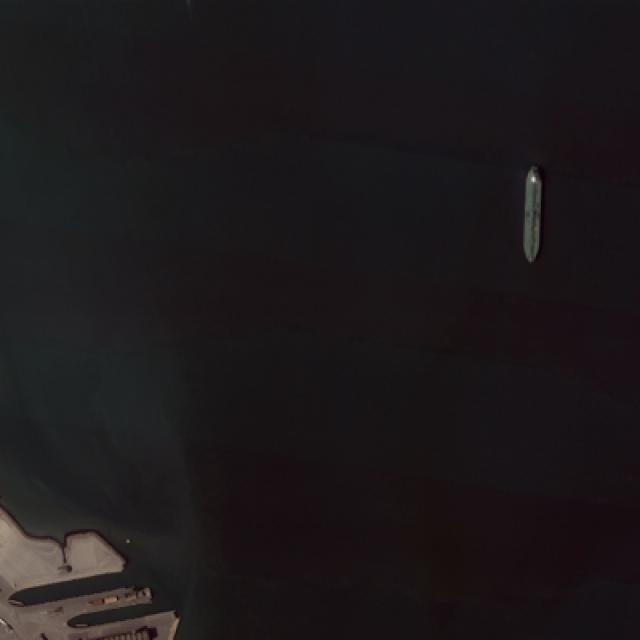boat: (522, 163, 540, 260)
